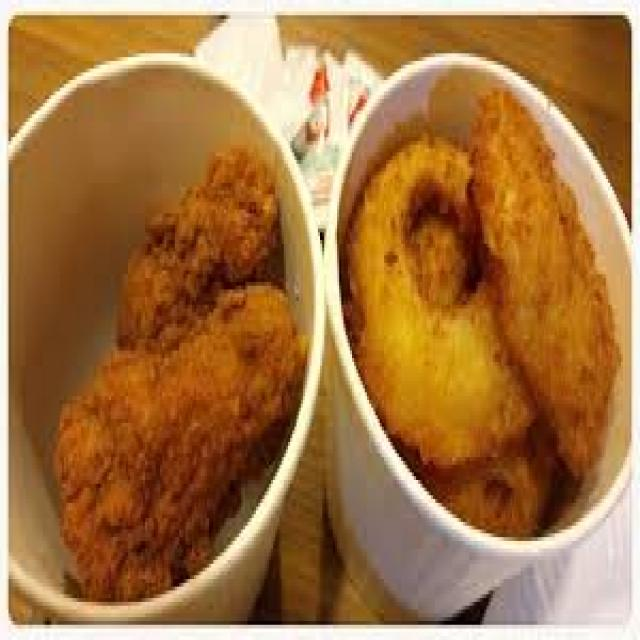Chicken Wings: (21, 103, 303, 602)
Onion Rings: (328, 76, 618, 556)
